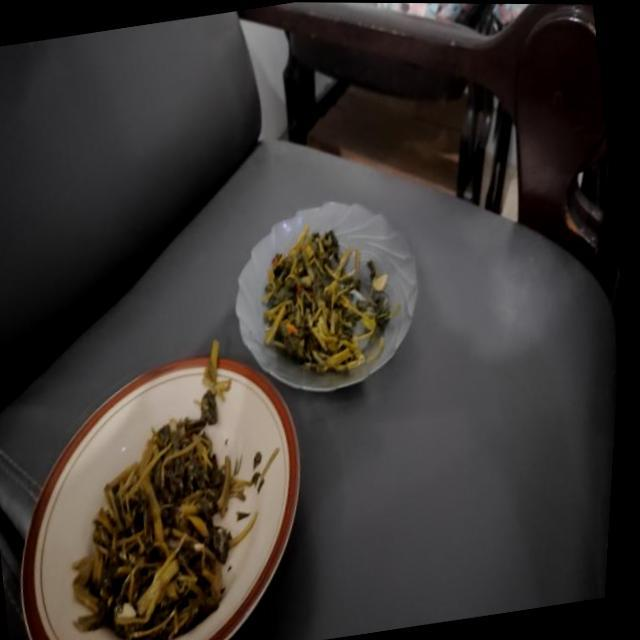tumis_kangkung: (73, 379, 257, 640), (262, 226, 390, 373)
